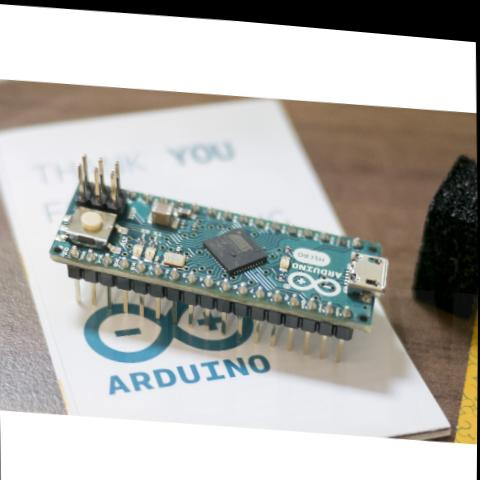Arduino-Micro: (43, 143, 396, 371)
